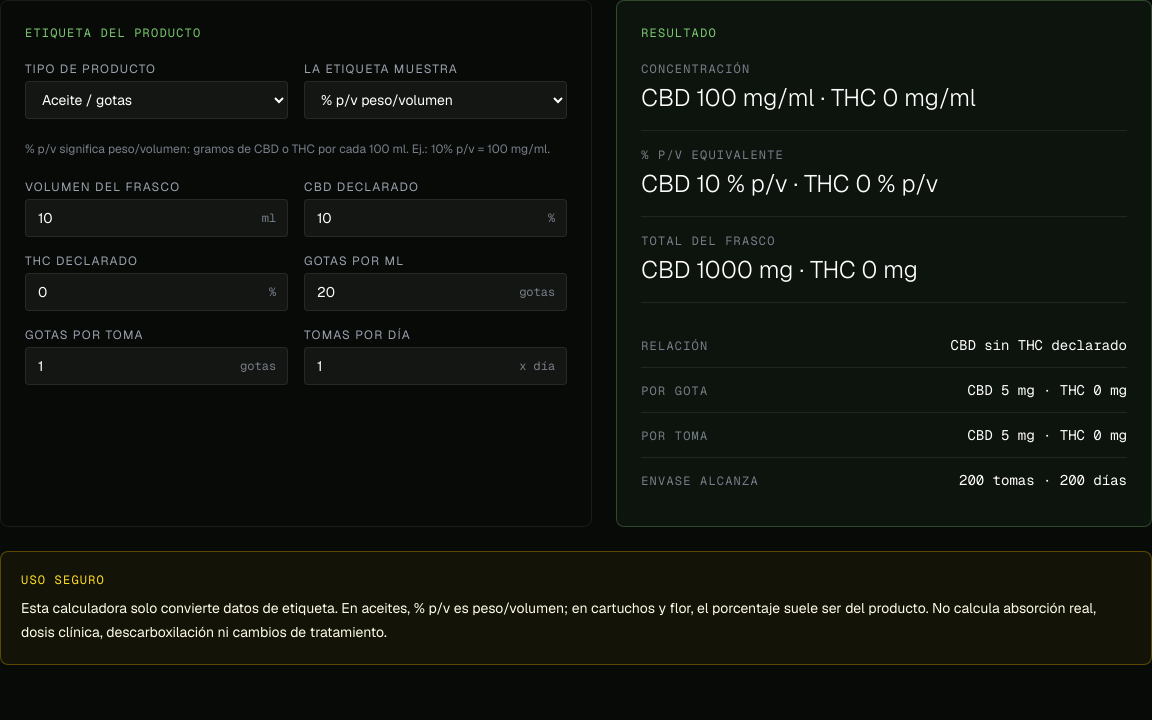
it: CannabinoidCalculator › calcula flor vaporizada por carga e inhalación teórica
Select "Flor vaporizada" in the dropdown labelled "Tipo de producto": (157,100) x1=25 y1=81 x2=288 y2=119
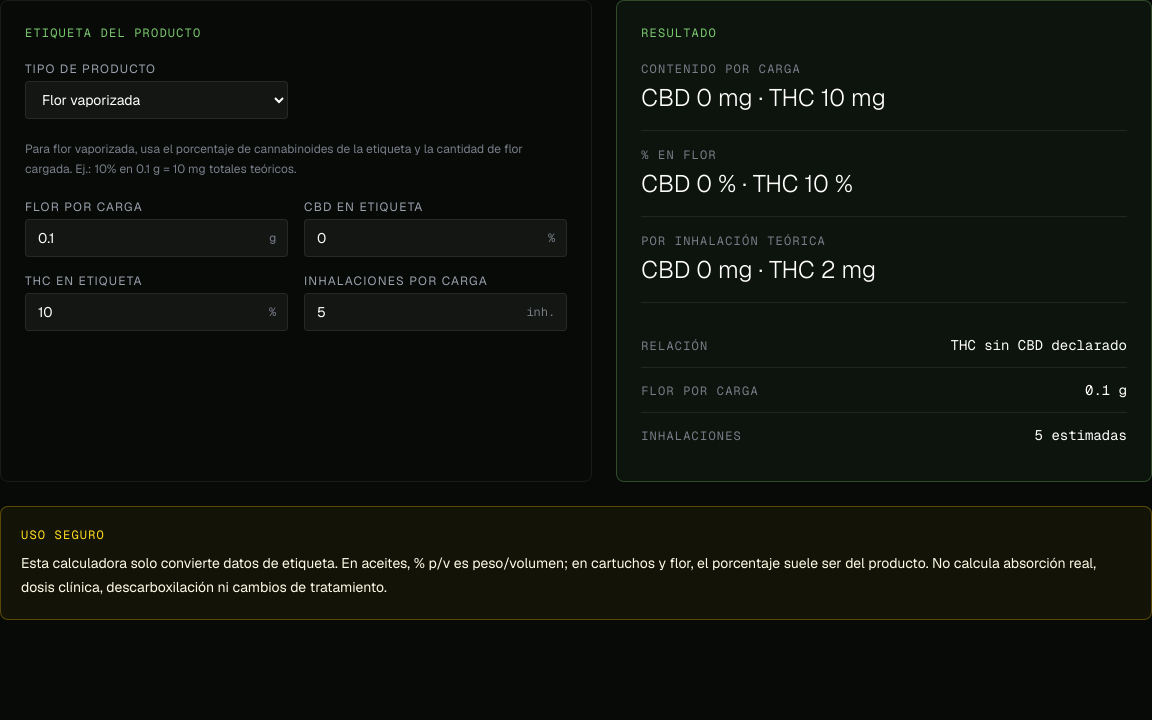
Result: the text "Contenido por carga" is shown at x1=641 y1=61 x2=801 y2=77
Result: the text "CBD 0 mg · THC 10 mg" is shown at x1=641 y1=82 x2=886 y2=113
Result: the text "CBD 0 % · THC 10 %" is shown at x1=641 y1=168 x2=853 y2=199
